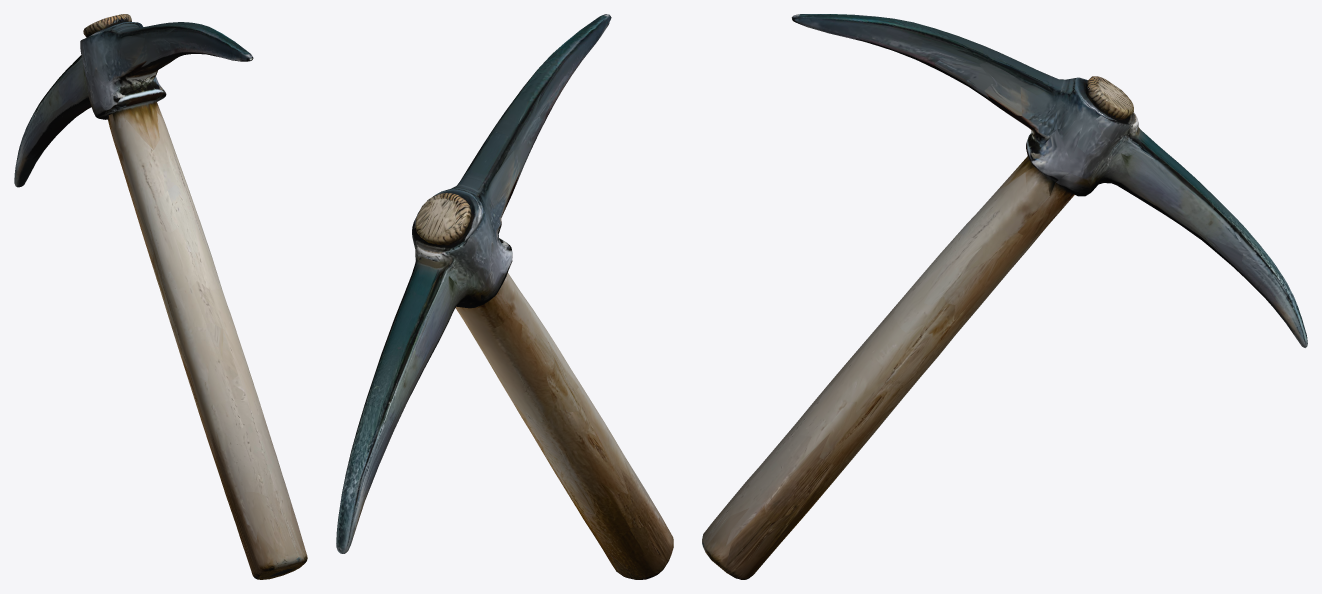
Rendered from pickaxeee.fbx.
The picture shows the model from 3 angles, left to right: view 1: azimuth 30°, elevation 25°; view 2: azimuth 150°, elevation 25°; view 3: azimuth 270°, elevation 25°; orthographic projection. The views are drawn at different scales.
Parts seen in each view (by area): view 1: meshes[0]; view 2: meshes[0]; view 3: meshes[0].
Part boxes in pixels (x1=…): meshes[0]: x1=14, y1=14, x2=307, y2=579; meshes[0]: x1=336, y1=14, x2=673, y2=579; meshes[0]: x1=702, y1=14, x2=1307, y2=579.
Size of the model in its own units: 11.91 by 99.94 by 98.05.
1 material, 1 textured.
